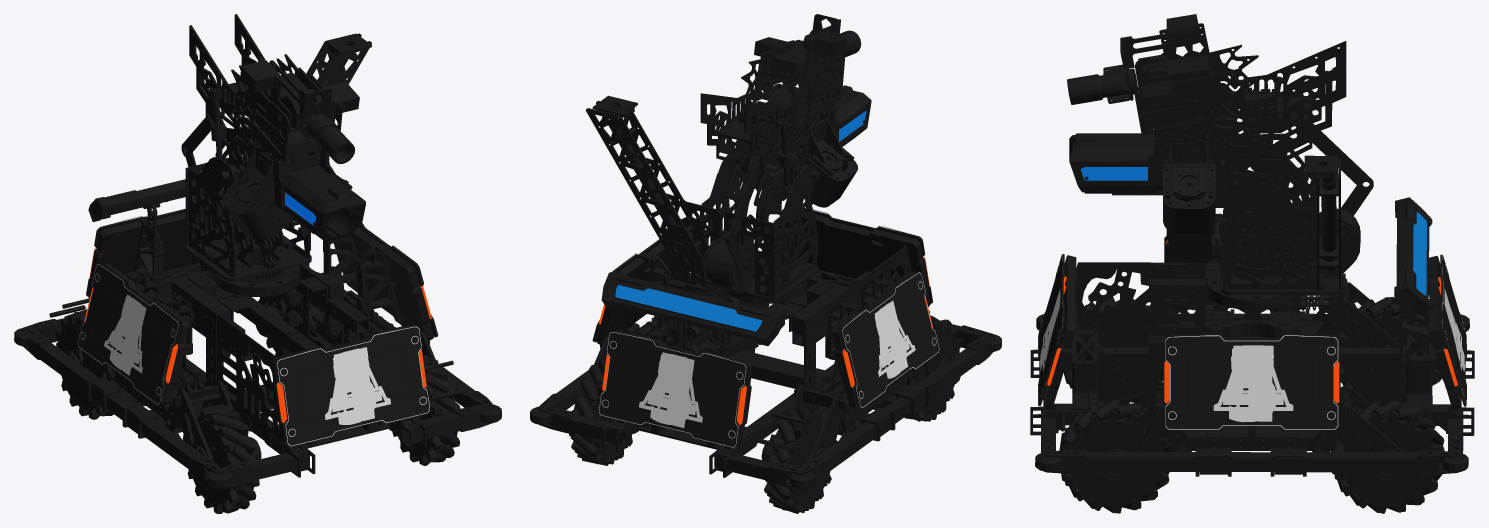
Rendered from HERO.glb.
3 renders of one model, left to right at view 1: azimuth 30°, elevation 25°; view 2: azimuth 150°, elevation 25°; view 3: azimuth 270°, elevation 25°, orthographic. The views are drawn at different scales.
Parts seen in each view (by area): view 1: CHASSIS, GIMBAL_MAIN, 3__L_ARMOR, 4__L_ARMOR, 1__L_ARMOR_BASE, 2__L_ARMOR_BASE, 3__L_ARMOR_CENTER, 4__L_ARMOR_CENTER, 3_B_3, 4__L_ARMOR_BASE, 3__L_ARMOR_BASE, 3_B_B (+5 smaller); view 2: CHASSIS, GIMBAL_MAIN, 1__L_ARMOR, 3__L_ARMOR_BASE, 4__L_ARMOR, 1__L_ARMOR_CENTER, LIGHTBAR, 4__L_ARMOR_CENTER, 2__L_ARMOR_BASE, 1_B_3, 4__L_ARMOR_BASE, 1_B_5 (+7 smaller); view 3: CHASSIS, GIMBAL_MAIN, 2__L_ARMOR, 2__L_ARMOR_CENTER, 3__L_ARMOR_BASE, 1__L_ARMOR_BASE, 2_B_B, 2_B_3, 4__L_ARMOR_BASE, 3__L_ARMOR, 1__L_ARMOR, LIGHTBAR (+5 smaller).
Boxes of the visible parts, box(x1,y1,x2,y2) form: CHASSIS: box(14, 179, 501, 513); GIMBAL_MAIN: box(181, 14, 371, 296); 3__L_ARMOR: box(276, 326, 429, 445); 4__L_ARMOR: box(78, 264, 179, 404); 1__L_ARMOR_BASE: box(88, 212, 226, 298); 2__L_ARMOR_BASE: box(334, 227, 433, 339); 3__L_ARMOR_CENTER: box(297, 350, 409, 421); 4__L_ARMOR_CENTER: box(92, 290, 163, 377); 3_B_3: box(333, 350, 376, 424); 4__L_ARMOR_BASE: box(102, 264, 189, 404); 3__L_ARMOR_BASE: box(270, 324, 421, 445); 3_B_B: box(325, 359, 390, 419); CHASSIS: box(530, 231, 1001, 513); GIMBAL_MAIN: box(586, 14, 871, 303); 1__L_ARMOR: box(599, 331, 747, 446); 3__L_ARMOR_BASE: box(779, 209, 930, 306); 4__L_ARMOR: box(840, 272, 939, 407); 1__L_ARMOR_CENTER: box(619, 355, 726, 423); LIGHTBAR: box(615, 285, 762, 331); 4__L_ARMOR_CENTER: box(856, 297, 924, 381); 2__L_ARMOR_BASE: box(597, 230, 691, 344); 1_B_3: box(650, 354, 692, 424); 4__L_ARMOR_BASE: box(831, 272, 915, 407); 1_B_5: box(599, 332, 746, 447); CHASSIS: box(1030, 197, 1474, 513); GIMBAL_MAIN: box(1067, 14, 1373, 310); 2__L_ARMOR: box(1165, 336, 1338, 430); 2__L_ARMOR_CENTER: box(1187, 358, 1316, 407); 3__L_ARMOR_BASE: box(1043, 255, 1076, 408); 1__L_ARMOR_BASE: box(1428, 256, 1461, 409); 2_B_B: box(1213, 354, 1293, 410); 2_B_3: box(1229, 345, 1276, 422); 4__L_ARMOR_BASE: box(1164, 218, 1315, 295); 3__L_ARMOR: box(1038, 254, 1064, 405); 1__L_ARMOR: box(1440, 254, 1466, 406); LIGHTBAR: box(1413, 211, 1426, 295).
Size of the model in its own units: 0.473 by 0.6209 by 0.5919.
